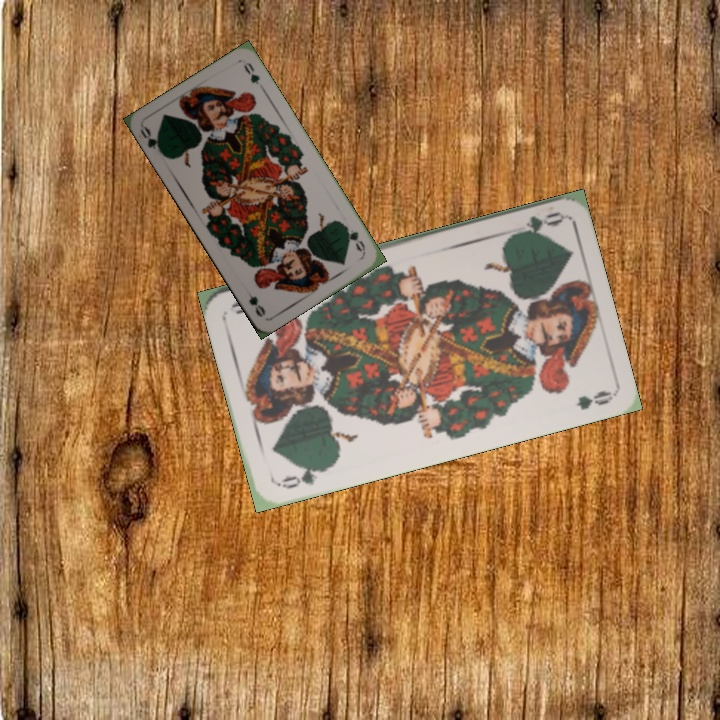GO: (508, 207, 565, 241), (274, 463, 331, 492), (136, 122, 168, 158), (340, 221, 368, 256)
